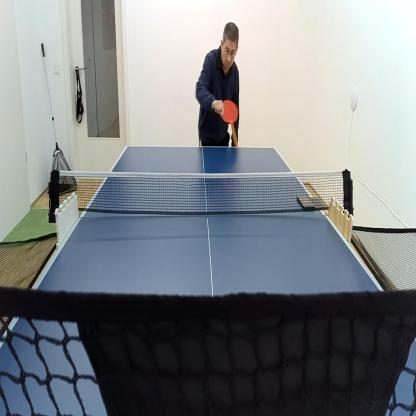Ball: (229, 121, 240, 146)
